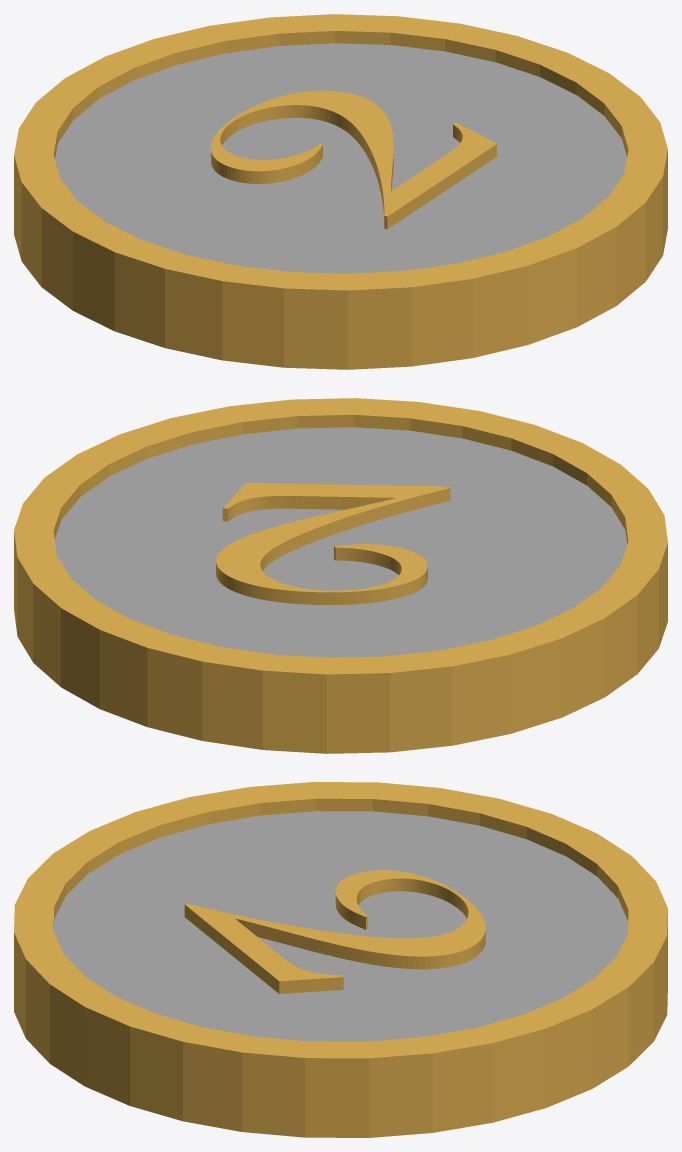
File: coin.glb
3 views of the same model, one above another, from view 1: azimuth 30°, elevation 25°; view 2: azimuth 150°, elevation 25°; view 3: azimuth 270°, elevation 25° (orthographic).
Parts seen in each view (by area): view 1: coin, 2 top; view 2: coin, 2 top; view 3: coin, 2 top.
Boxes of the visible parts, <box> form: coin: <box>14,14,667,369</box>; 2 top: <box>211,90,496,229</box>; coin: <box>14,398,667,753</box>; 2 top: <box>216,483,450,604</box>; coin: <box>14,782,667,1137</box>; 2 top: <box>184,870,485,993</box>.
Size of the model in its own units: 0.0532 by 0.00718 by 0.0532.
